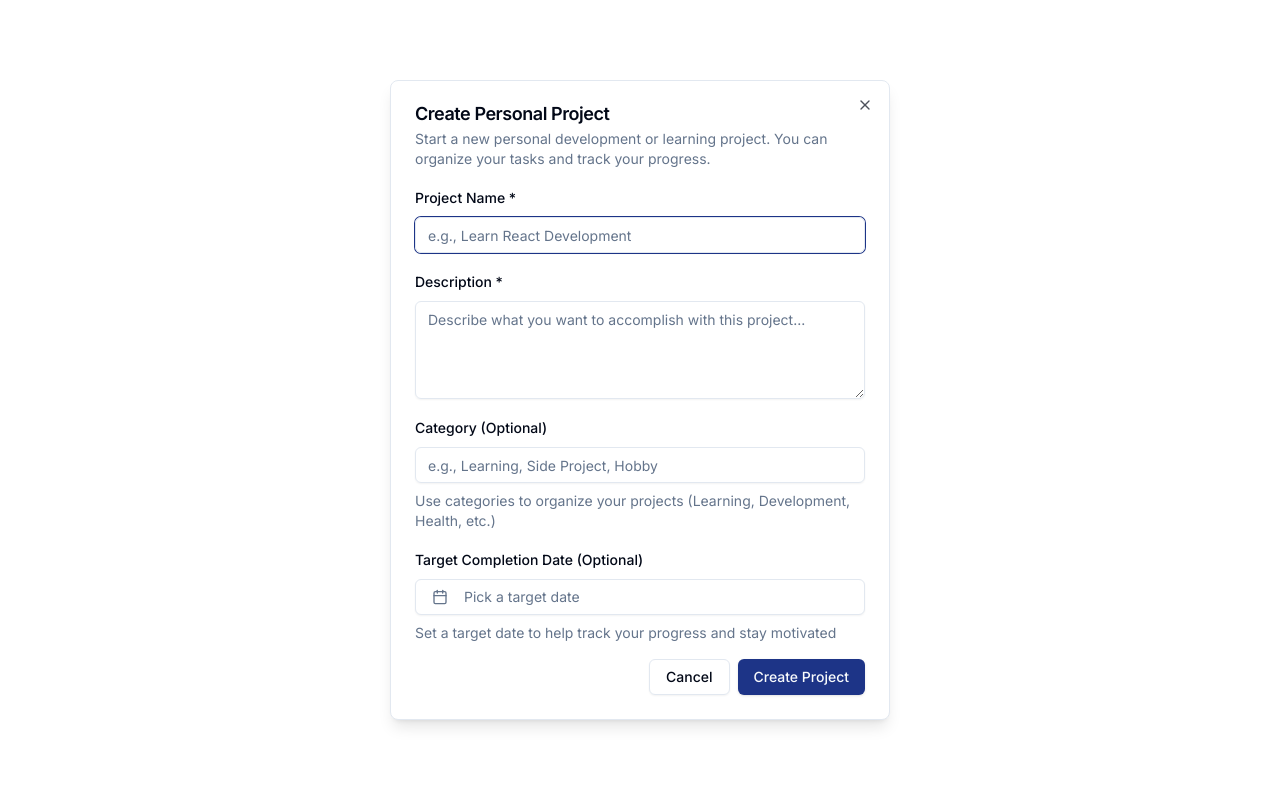
Scenario: Personal Projects Components › CreateProjectDialog › validates required fields
Click the button "Create Project".
click(801, 677)  # box [738,659,865,695]
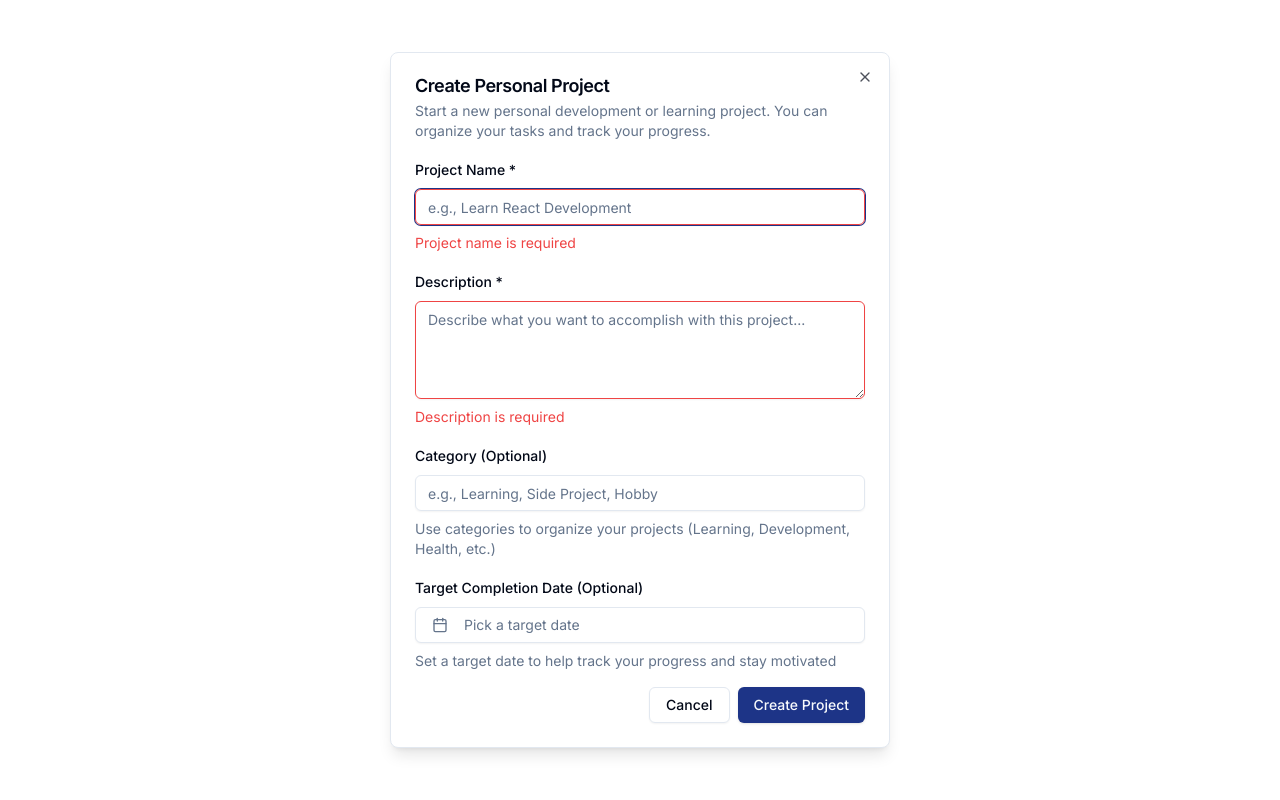
Expected: the text "Project name is required" is shown, [415,234,576,251]
Expected: the text "Description is required" is shown, [415,408,564,425]
